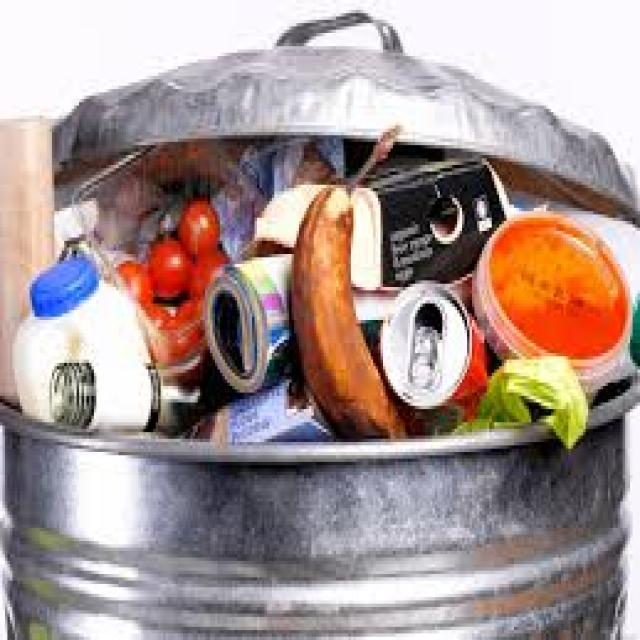Wet: (300, 170, 398, 430), (141, 223, 217, 302)
